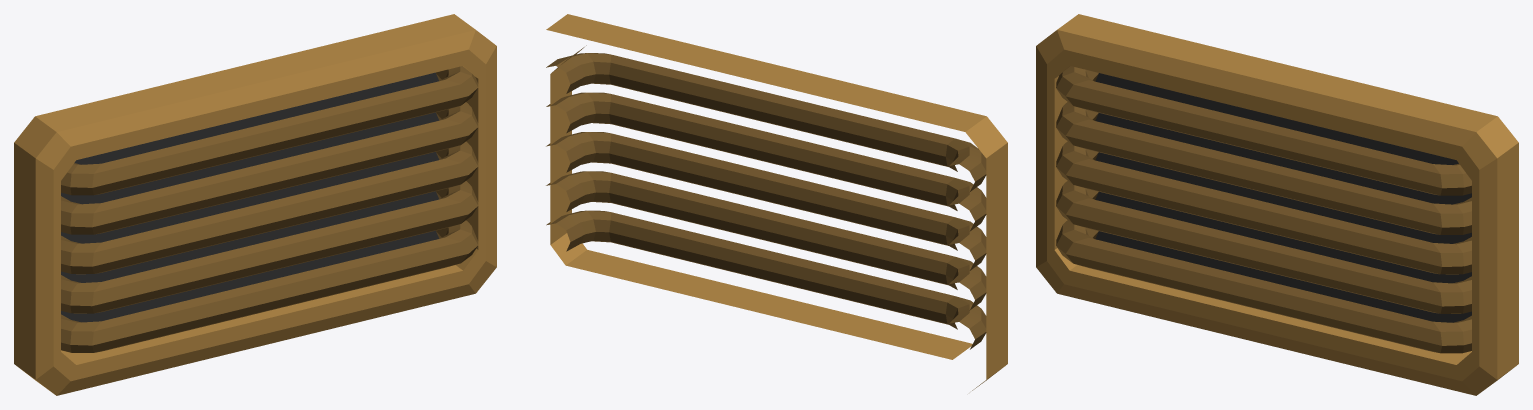
3 renders of one model, left to right at view 1: azimuth 30°, elevation 25°; view 2: azimuth 150°, elevation 25°; view 3: azimuth 330°, elevation 25°, orthographic.
Parts seen in each view (by area): view 1: Details_Vent_5; view 2: Details_Vent_5; view 3: Details_Vent_5.
Boxes of the visible parts, box(x1,y1,x2,y2) form: Details_Vent_5: box(14, 14, 496, 395); Details_Vent_5: box(546, 14, 1007, 390); Details_Vent_5: box(1036, 14, 1518, 395).
Bounding box in the file's own units: 0.6864 × 0.3753 × 0.0905.
